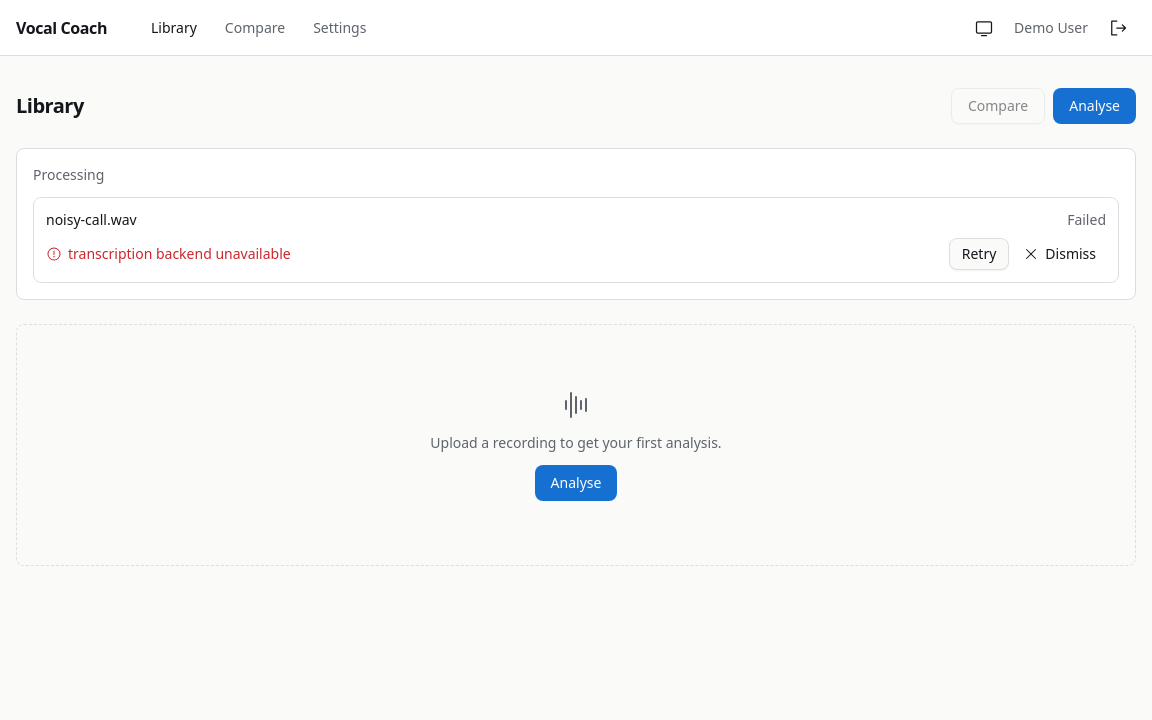
Test case: a failed job row shows Retry, which POSTs a retry and switches the row onto the new job
This screenshot has width=1152, height=720.
Expected: the text "transcription backend unavailable" is shown, 46,244 -> 291,264
Click the button "Retry" at x=979, y=254, box 949,238 -> 1009,270
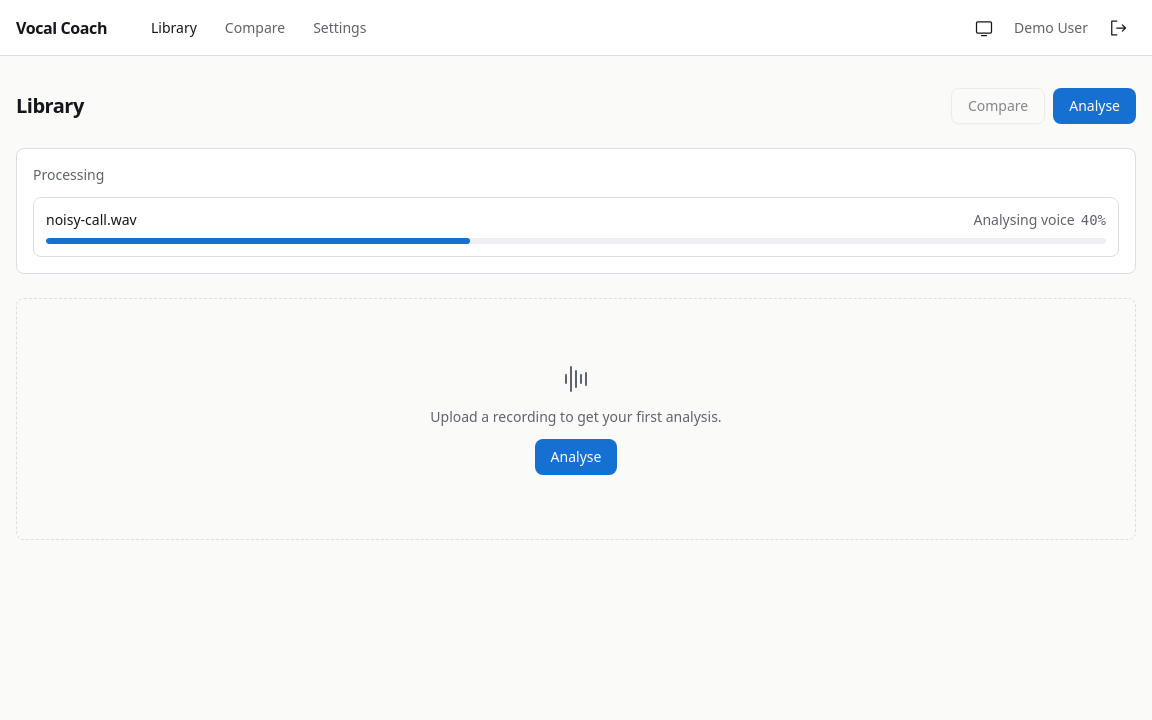
Expected: the text "noisy-call.wav" is shown once, 46,210 -> 137,230
Expected: the text "Analysing voice" is shown, 974,210 -> 1075,230
Expected: the text "transcription backend unavailable" is gone
